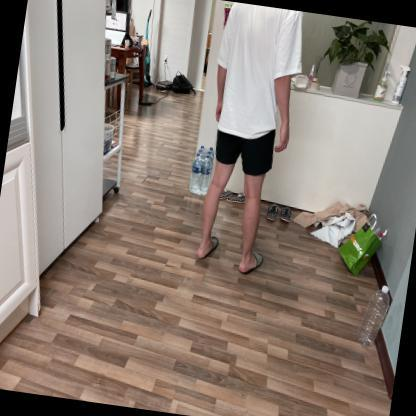no_safety-shoe: (229, 247, 276, 285), (185, 233, 224, 270)
